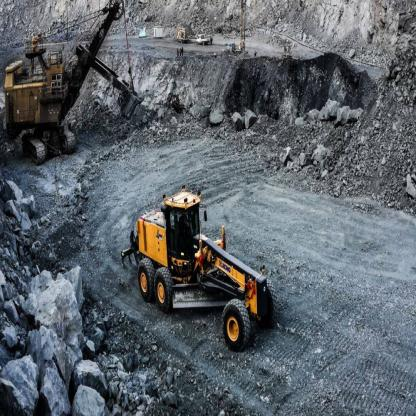bull_dozer/loader/grader: (119, 177, 279, 351)
